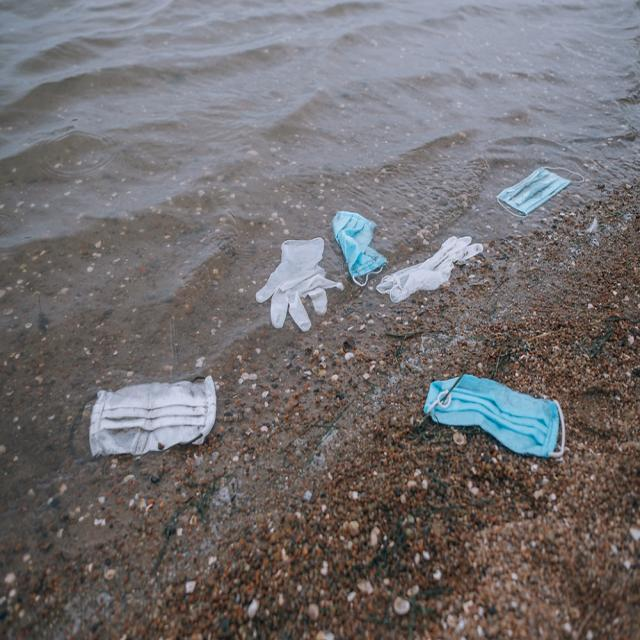face mask: (414, 366, 576, 456), (86, 366, 221, 464), (497, 154, 575, 220)
